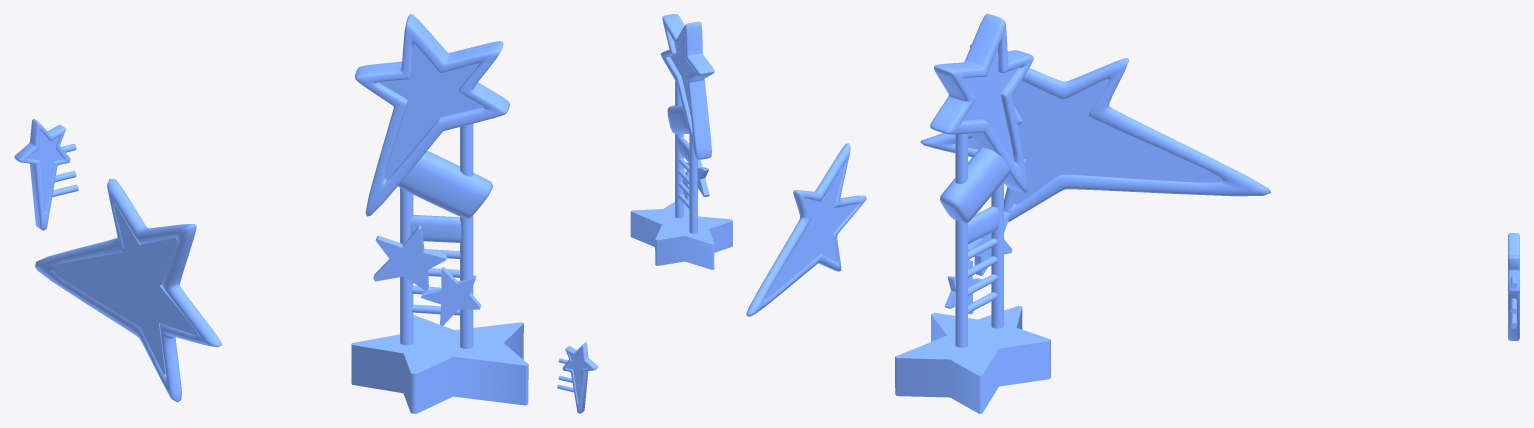
The picture shows the model from 3 angles, left to right: view 1: azimuth 30°, elevation 25°; view 2: azimuth 150°, elevation 25°; view 3: azimuth 270°, elevation 25°; orthographic projection. The views are drawn at different scales.
Parts seen in each view (by area): view 1: Cube, Cube.120, Cube.130; view 2: Cube, Cube.120, Cube.130; view 3: Cube, Cube.120, Cube.130.
Part boxes in pixels (left/top/right/bottom): Cube: left=351, top=14, right=528, bottom=413; Cube.120: left=35, top=179, right=221, bottom=402; Cube.130: left=14, top=119, right=78, bottom=230; Cube: left=630, top=14, right=732, bottom=269; Cube.120: left=746, top=143, right=866, bottom=316; Cube.130: left=557, top=342, right=598, bottom=413; Cube: left=895, top=14, right=1050, bottom=413; Cube.120: left=920, top=44, right=1270, bottom=222; Cube.130: left=1508, top=233, right=1519, bottom=340.
Bounding box in the file's own units: 692 × 749 × 1149.
